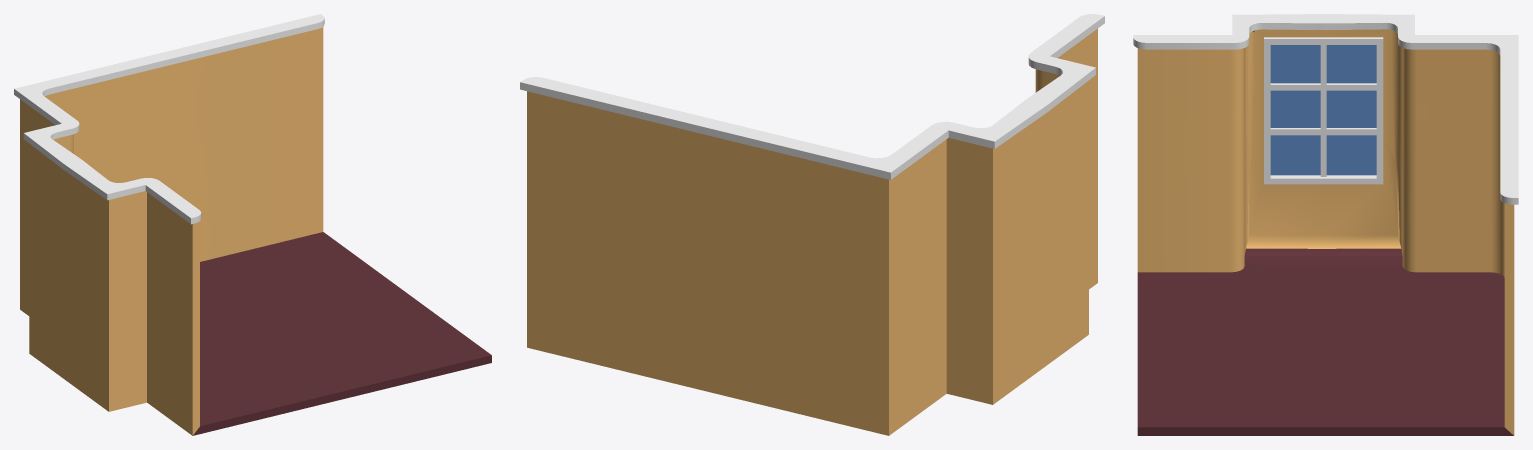
3 views of the same model, side by side, from view 1: azimuth 30°, elevation 25°; view 2: azimuth 150°, elevation 25°; view 3: azimuth 270°, elevation 25° (orthographic). The views are drawn at different scales.
Parts seen in each view (by area): view 1: Base; view 2: Base; view 3: Base.
Boxes of the visible parts, left/top/right/bottom form: Base: left=14, top=14, right=491, bottom=435; Base: left=520, top=14, right=1104, bottom=435; Base: left=1133, top=14, right=1518, bottom=435.
Size of the model in its own units: 266 by 161 by 235.
